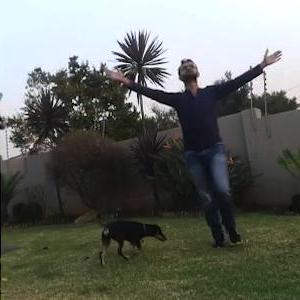takeoff: (118, 55, 280, 240)
